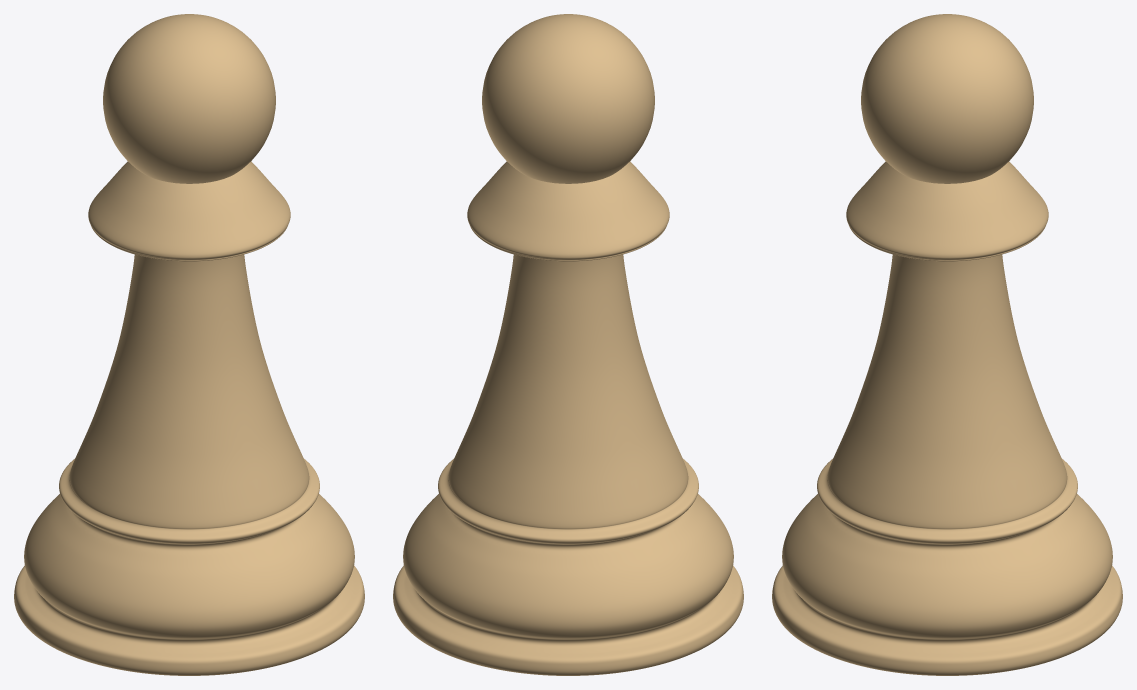
The model's file is pawn.glb.
3 renders of one model, left to right at view 1: azimuth 30°, elevation 25°; view 2: azimuth 150°, elevation 25°; view 3: azimuth 270°, elevation 25°, orthographic.
Parts seen in each view (by area): view 1: Pawn.002; view 2: Pawn.002; view 3: Pawn.002.
Part boxes in pixels (x1,y1,x2,y2): Pawn.002: (14, 14, 364, 675); Pawn.002: (393, 14, 743, 675); Pawn.002: (772, 14, 1122, 675).
Size of the model in its own units: 0.0302 by 0.056 by 0.0302.
